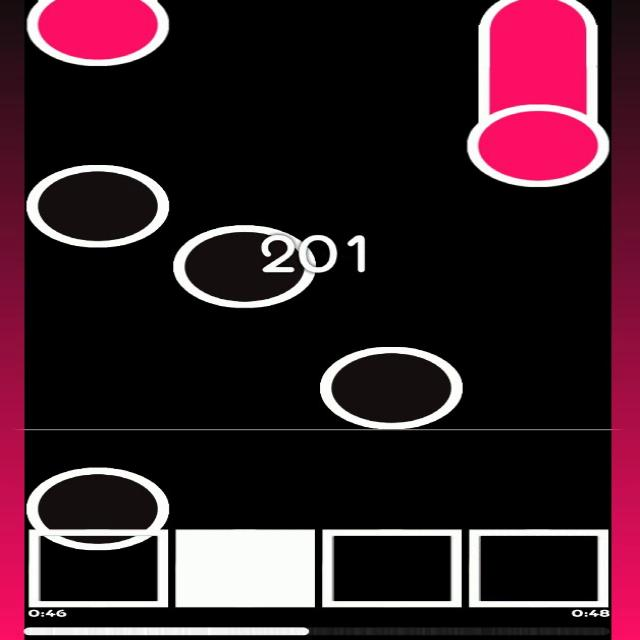end_hold: (474, 0, 604, 36)
note: (173, 215, 316, 314), (318, 339, 464, 431), (26, 162, 168, 250), (31, 465, 170, 553)
start_hold: (461, 84, 614, 190), (20, 0, 176, 67)
